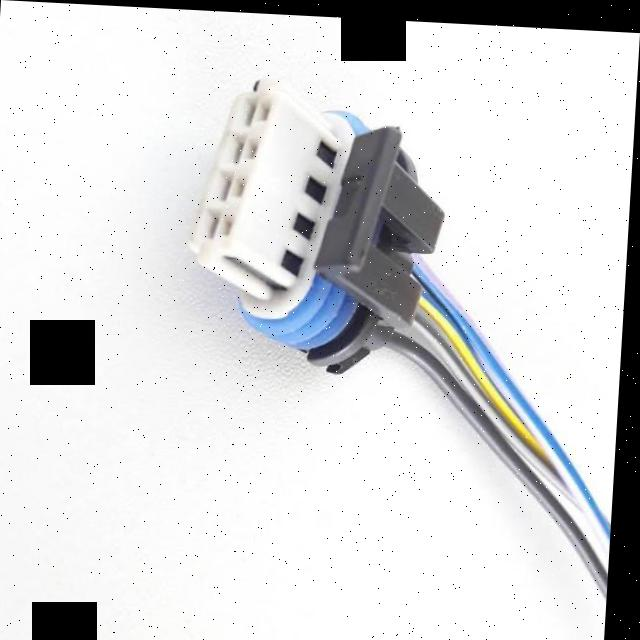connector: (193, 78, 445, 365)
